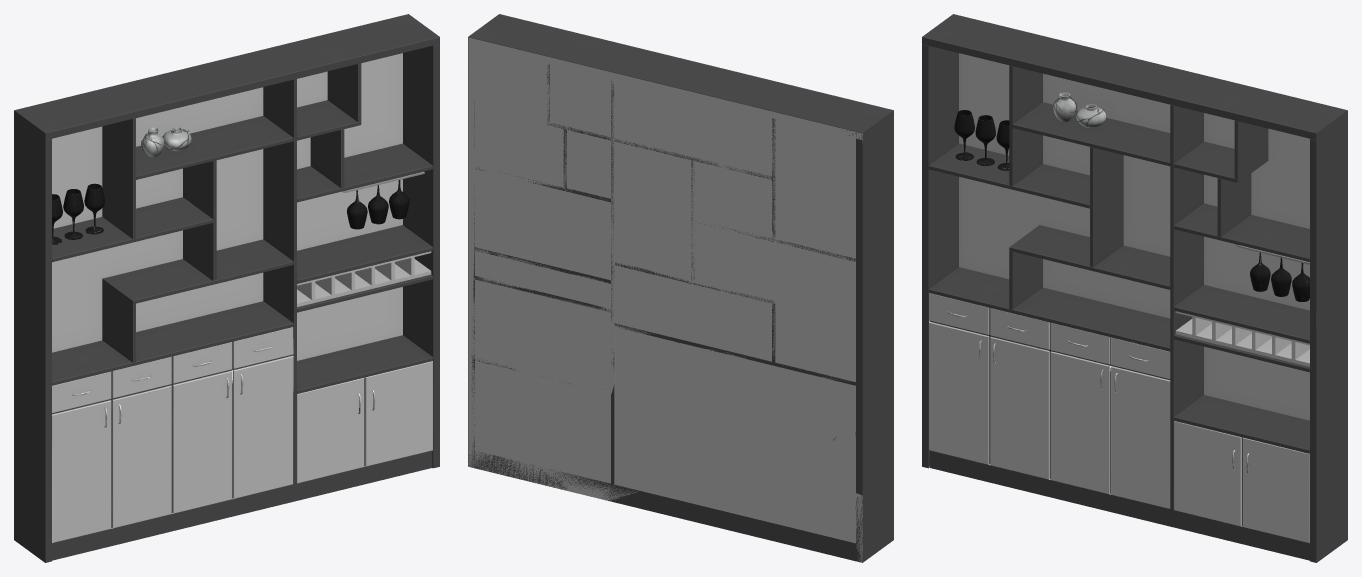
Rendered from cabinet_hutch_buffet_5b84b388-118c-52a2-b842-2402c11e8b38.glb.
3 views of the same model, side by side, from view 1: azimuth 30°, elevation 25°; view 2: azimuth 150°, elevation 25°; view 3: azimuth 330°, elevation 25° (orthographic).
Parts seen in each view (by area): view 1: raw_model.obj; view 2: raw_model.obj; view 3: raw_model.obj.
Part boxes in pixels (box(x1,y1,x2,y2)): raw_model.obj: box(14, 14, 439, 562); raw_model.obj: box(468, 14, 893, 562); raw_model.obj: box(922, 14, 1347, 562).
Bounding box in the file's own units: 2.32 × 2.42 × 0.3406.
1 material, 1 textured.
